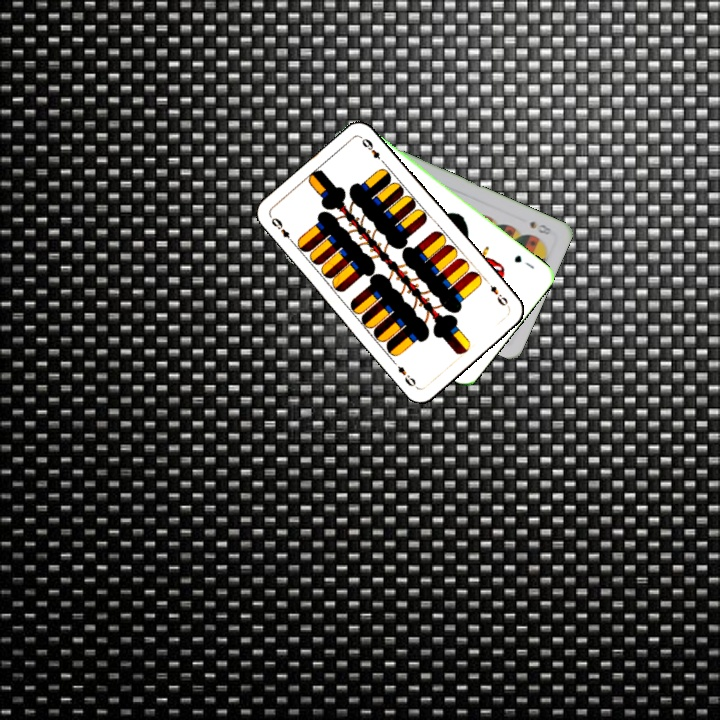E9: (267, 213, 297, 247), (486, 281, 512, 310)
GU: (510, 251, 537, 271)
S8: (525, 217, 555, 237)
